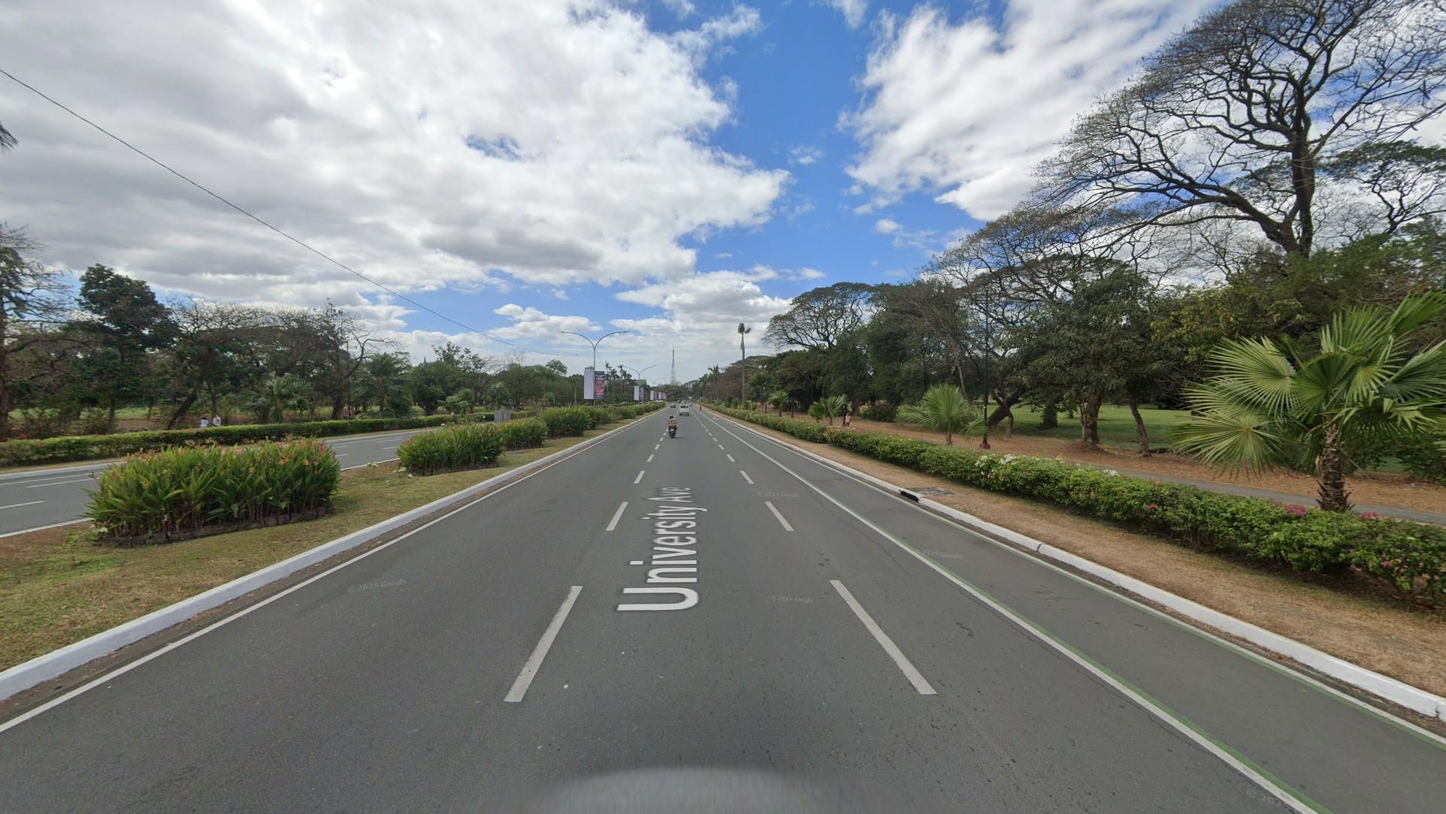pedestrian: (845, 412, 851, 429), (699, 405, 702, 411)
